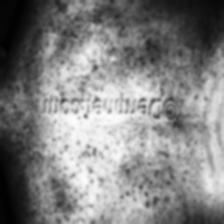Non-Cancerous Skin Condition: (26, 122, 204, 224), (11, 7, 224, 88)
